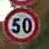limite 50: (2, 7, 39, 43)
